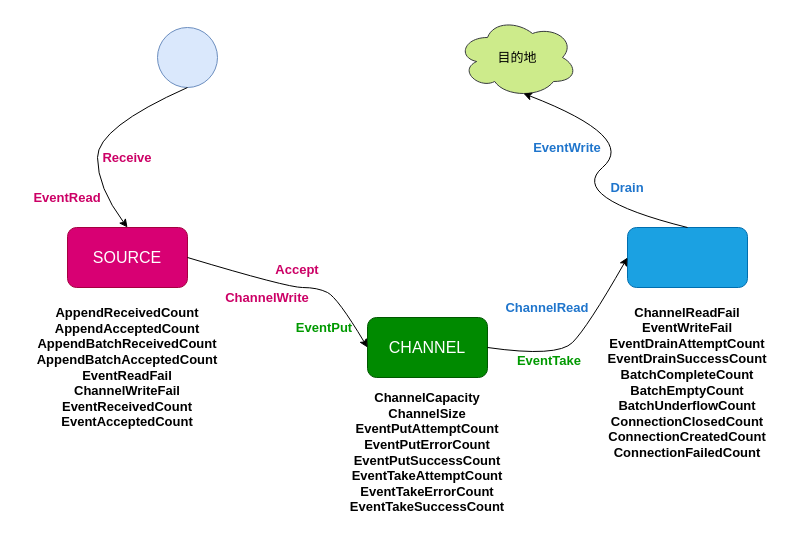
Image size: 799x540. Some labels were removed from this diagram. Each missing label, with the box of its shape:
SINK: (626, 226, 748, 288)
事件源: (156, 26, 218, 88)
